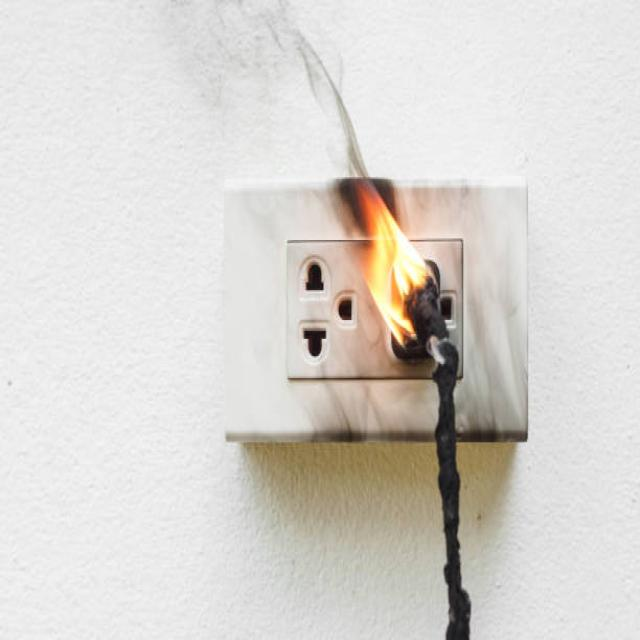fire: (345, 174, 462, 353)
